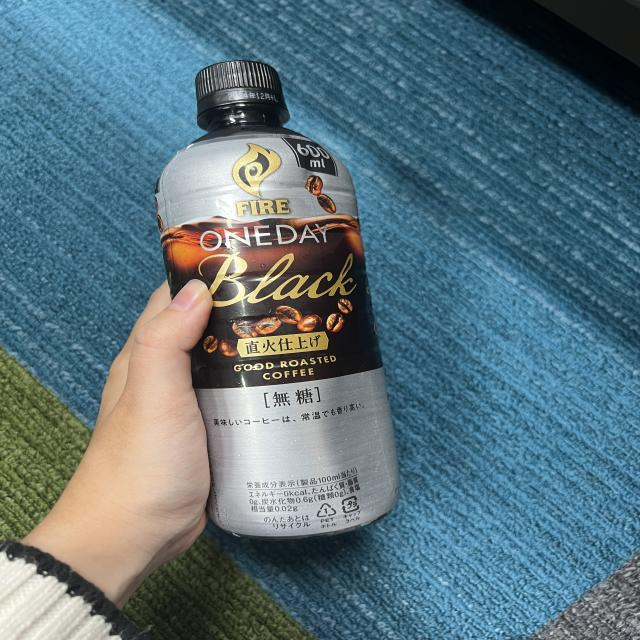coffee-black: (146, 44, 410, 544)
